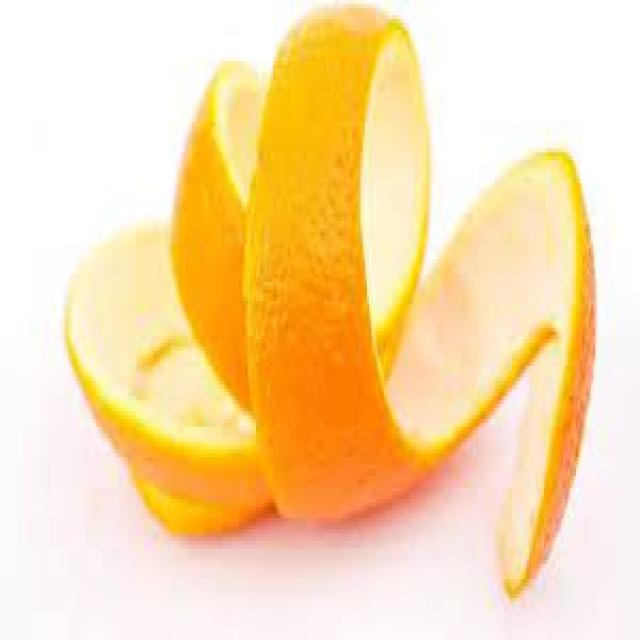Organik: (61, 2, 600, 610)
